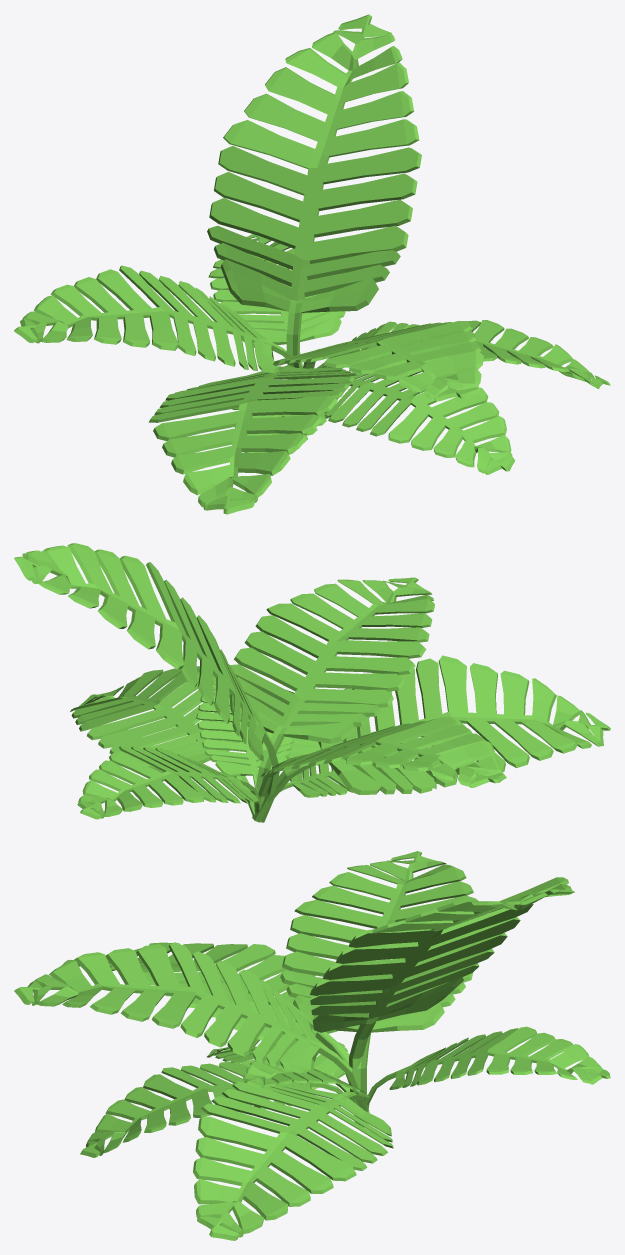
The model's file is DinoPlant.fbx.
3 views of the same model, one above another, from view 1: azimuth 30°, elevation 25°; view 2: azimuth 150°, elevation 25°; view 3: azimuth 270°, elevation 25° (orthographic). The views are drawn at different scales.
Parts seen in each view (by area): view 1: Plane.003, Plane.002, Plane.006, Plane.001, Plane, Plane.007, Plane.005; view 2: Plane, Plane.002, Plane.003, Plane.005, Plane.006, Plane.007, Plane.008, Plane.004, Plane.001; view 3: Plane.005, Plane, Plane.003, Plane.006, Plane.007, Plane.001, Plane.002, Plane.008, Plane.004.
Part boxes in pixels (x1,y1,x2,y2): Plane.003: [207, 14, 421, 378]; Plane.002: [148, 365, 357, 514]; Plane.006: [14, 265, 303, 378]; Plane.001: [320, 371, 515, 474]; Plane: [273, 321, 483, 401]; Plane.007: [208, 234, 345, 368]; Plane.005: [314, 320, 610, 388]; Plane: [229, 577, 434, 792]; Plane.002: [260, 655, 610, 822]; Plane.003: [14, 543, 279, 822]; Plane.005: [70, 666, 254, 820]; Plane.006: [258, 716, 506, 821]; Plane.007: [77, 746, 261, 819]; Plane.008: [196, 680, 293, 792]; Plane.004: [280, 763, 437, 797]; Plane.001: [244, 690, 369, 765]; Plane.005: [193, 1081, 393, 1240]; Plane: [14, 942, 362, 1126]; Plane.003: [310, 877, 574, 1125]; Plane.006: [280, 851, 483, 1100]; Plane.007: [365, 1026, 610, 1111]; Plane.001: [80, 1061, 355, 1157]; Plane.002: [60, 942, 357, 1123]; Plane.008: [242, 1059, 369, 1098]; Plane.004: [206, 1038, 353, 1101].
Bounding box in the file's own units: 706 × 389 × 663.
